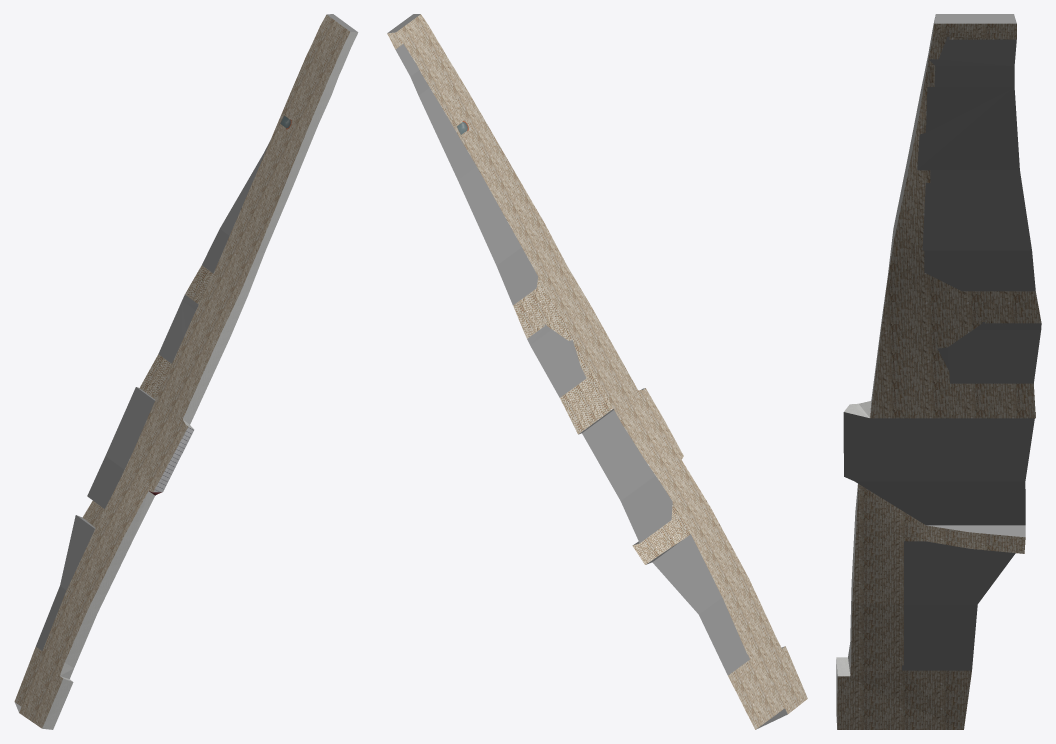
Rendered from Pikk_jalg_myyr_1.obj.
3 renders of one model, left to right at view 1: azimuth 30°, elevation 25°; view 2: azimuth 150°, elevation 25°; view 3: azimuth 270°, elevation 25°, orthographic. The views are drawn at different scales.
Visible parts, largest first — view 1: Pikk_jalg_myyr_1; view 2: Pikk_jalg_myyr_1; view 3: Pikk_jalg_myyr_1.
Boxes of the visible parts, x1,y1,x2,y2 form: Pikk_jalg_myyr_1: (14,14,358,729); Pikk_jalg_myyr_1: (387,14,807,729); Pikk_jalg_myyr_1: (836,14,1041,729).
Size of the model in its own units: 64.44 by 105 by 20.06.
